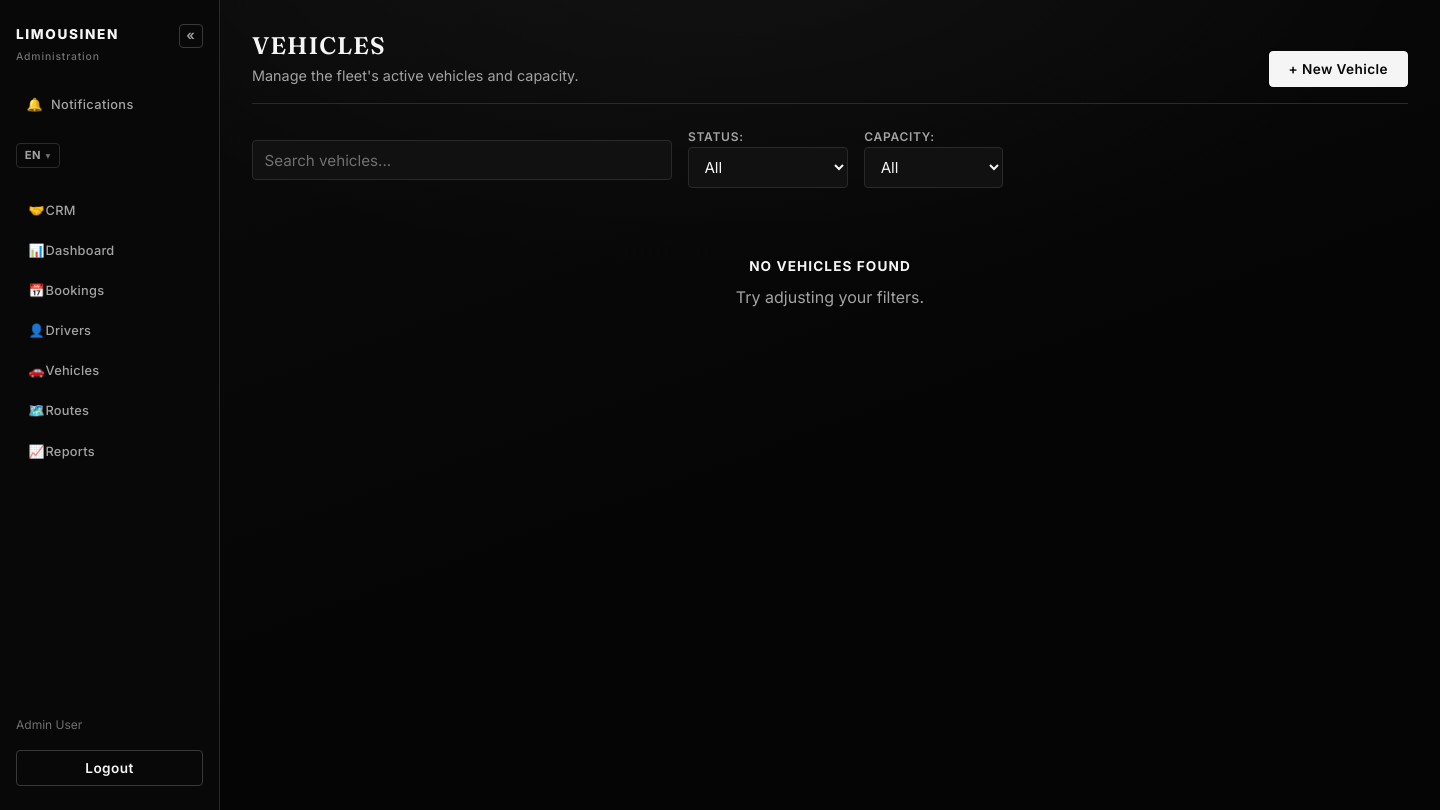
Scenario: VehiclesPage › rejects an empty create-vehicle form client-side
Expected: the text "No Vehicles Found" is shown, [749,258,911,274]
What coordinates should you click on to do the following:
click the button "+ New Vehicle"
I would click on:
 (1338, 69)
Its box is [1268,52,1408,87].
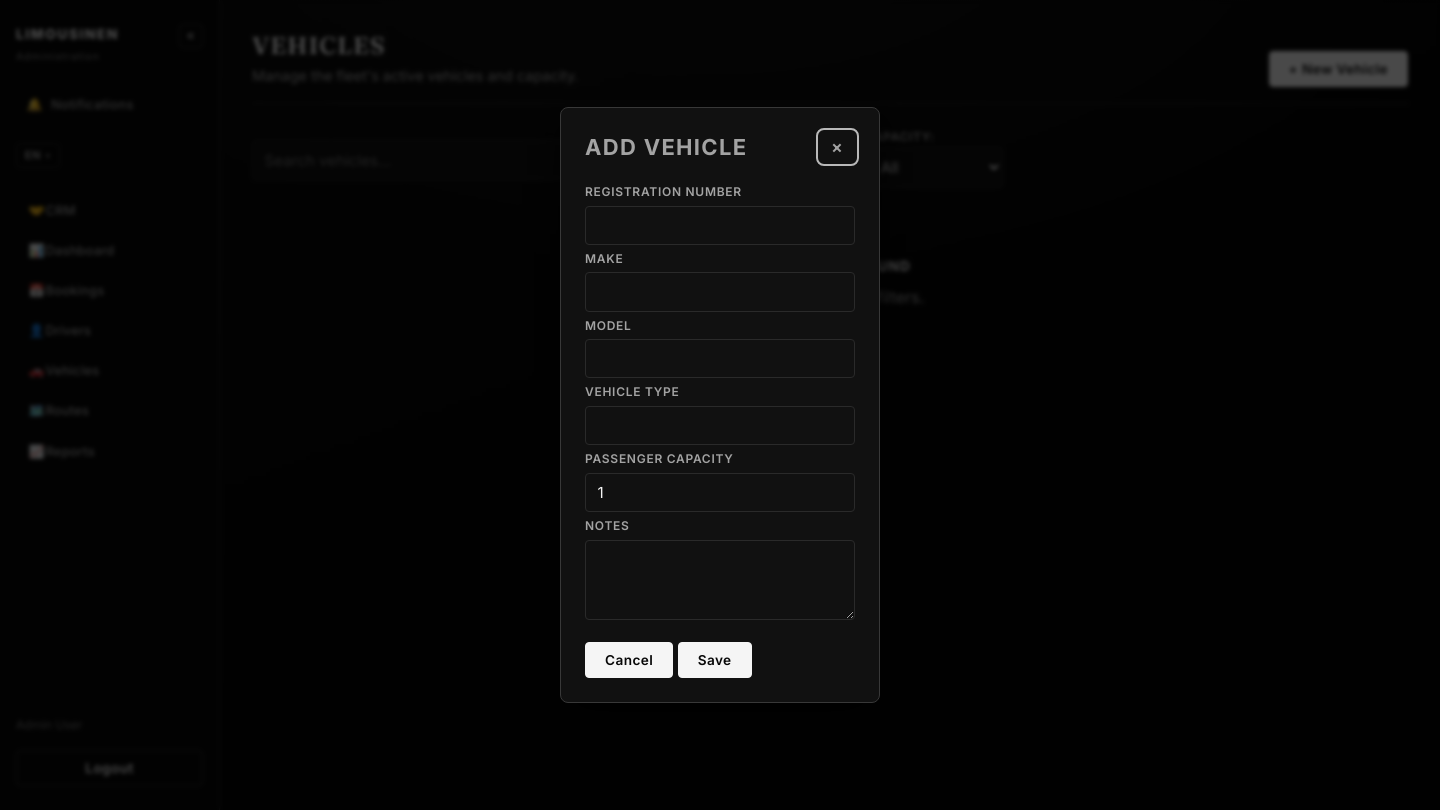
What coordinates should you click on to do the following:
click the button "Save"
I would click on:
 (715, 660)
Its box is [678,642,752,678].
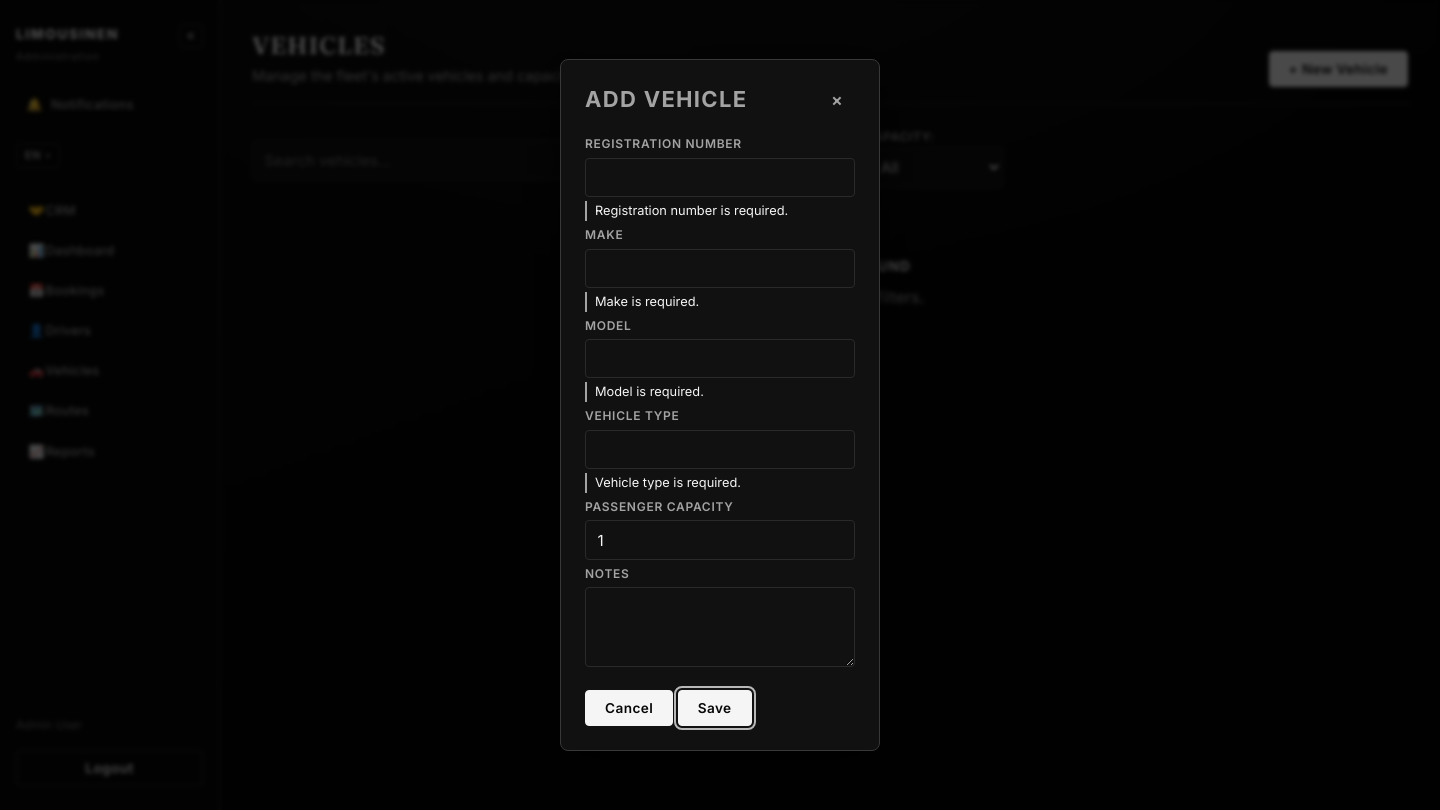
Expected: the text "Registration number is required." is shown, [585,201,855,221]
